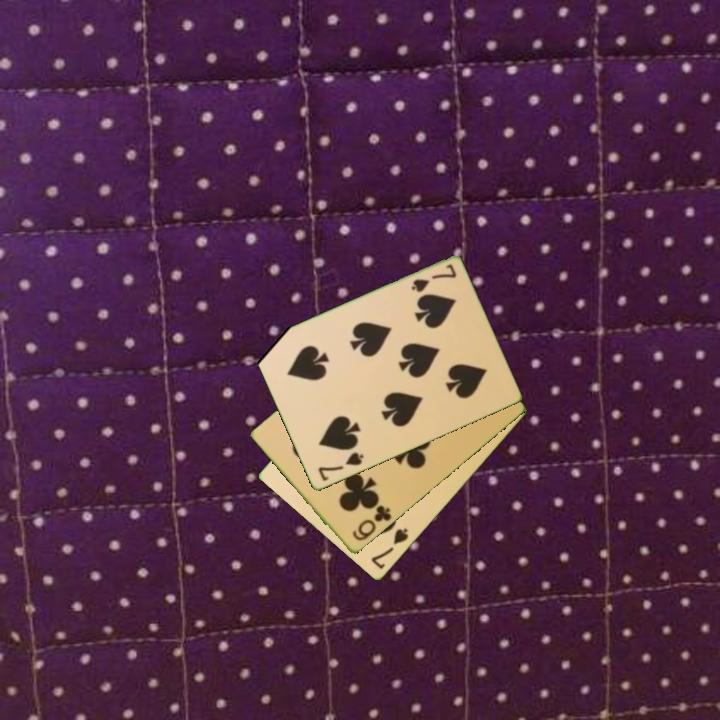6c: (349, 502, 395, 544)
7s: (367, 525, 412, 572), (407, 260, 459, 296), (314, 449, 367, 484)
